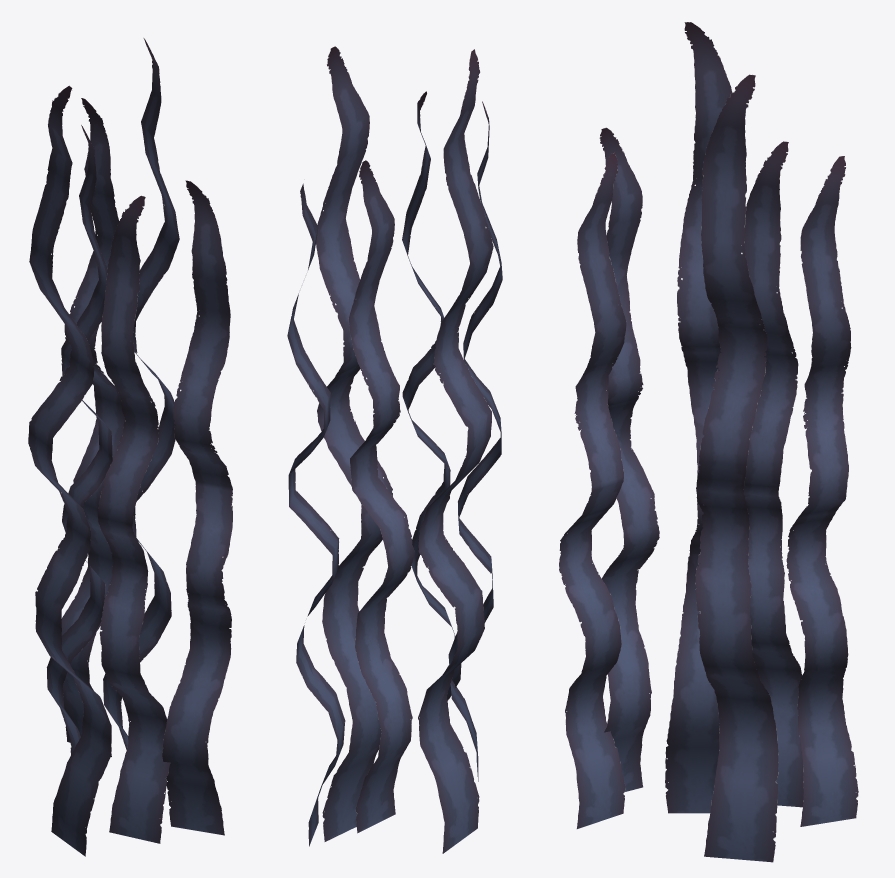
The model's file is Sunken Tomb Wavy Kelp Small.fbx.
3 views of the same model, side by side, from view 1: azimuth 30°, elevation 25°; view 2: azimuth 150°, elevation 25°; view 3: azimuth 270°, elevation 25° (orthographic). The views are drawn at different scales.
Visible parts, largest first — view 1: Wavy Kelp Small; view 2: Wavy Kelp Small; view 3: Wavy Kelp Small.
Boxes of the visible parts, x1,y1,x2,y2 form: Wavy Kelp Small: (28, 38, 232, 856); Wavy Kelp Small: (287, 46, 502, 853); Wavy Kelp Small: (559, 22, 858, 862).
Size of the model in its own units: 304 by 1503 by 579.
